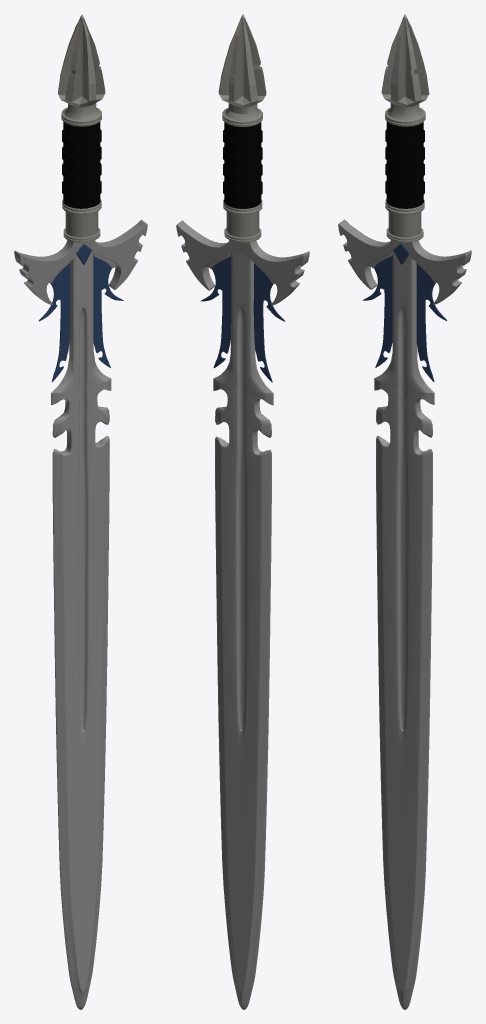
File: sword-unity-1.fbx
3 views of the same model, side by side, from view 1: azimuth 30°, elevation 25°; view 2: azimuth 150°, elevation 25°; view 3: azimuth 330°, elevation 25° (orthographic).
Parts seen in each view (by area): view 1: main_sword, handle, handle_decor, sides; view 2: main_sword, handle, handle_decor, sides; view 3: main_sword, handle, handle_decor, sides.
Part boxes in pixels (x1,y1,x2,y2): main_sword: (51, 243, 111, 1009); handle: (58, 14, 105, 242); handle_decor: (14, 219, 147, 304); sides: (39, 256, 123, 381); main_sword: (213, 251, 273, 1009); handle: (218, 14, 266, 242); handle_decor: (176, 220, 309, 305); sides: (201, 254, 285, 382); main_sword: (374, 243, 434, 1009); handle: (381, 14, 429, 242); handle_decor: (338, 219, 471, 304); sides: (362, 255, 447, 381).
Bounding box in the file's own units: 5.97 × 44.4 × 1.78.
